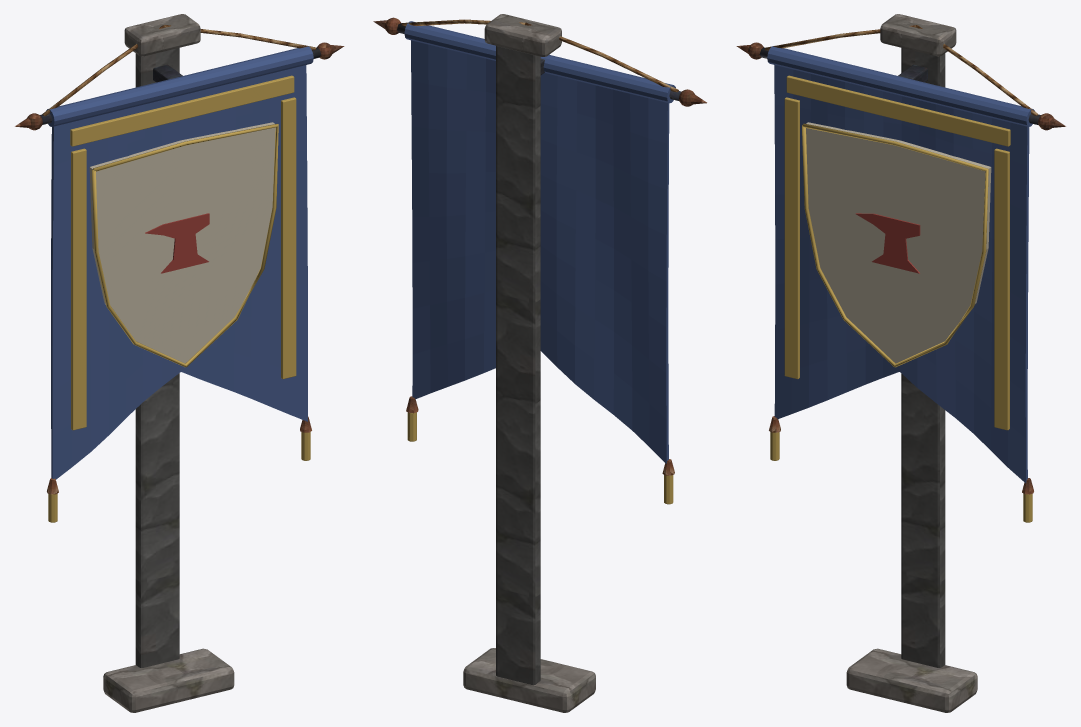
Rendered from hs_order_banner.glb.
The picture shows the model from 3 angles, left to right: view 1: azimuth 30°, elevation 25°; view 2: azimuth 150°, elevation 25°; view 3: azimuth 330°, elevation 25°; orthographic projection.
Parts seen in each view (by area): view 1: model; view 2: model; view 3: model.
Boxes of the visible parts, left/top/right/bottom form: model: left=15, top=14, right=344, bottom=712; model: left=373, top=14, right=706, bottom=712; model: left=736, top=14, right=1065, bottom=712.
Size of the model in its own units: 1.07 by 2.06 by 0.185.
9 materials, 5 textured.
